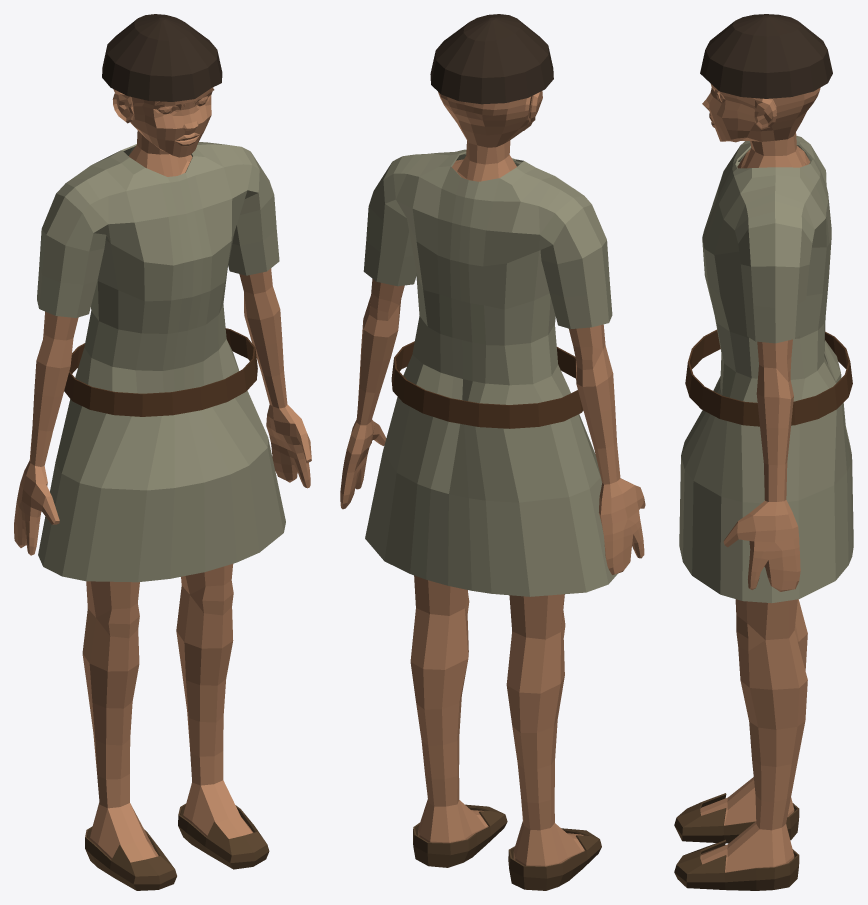
File: worker.glb
3 views of the same model, side by side, from view 1: azimuth 30°, elevation 25°; view 2: azimuth 150°, elevation 25°; view 3: azimuth 270°, elevation 25° (orthographic). The views are drawn at different scales.
Visible parts, largest first — view 1: worker_RomanTunic, worker_CharacterBase, worker_HairCap, worker_LeatherBelt, worker_RomanSandals; view 2: worker_RomanTunic, worker_CharacterBase, worker_HairCap, worker_LeatherBelt, worker_RomanSandals; view 3: worker_RomanTunic, worker_CharacterBase, worker_HairCap, worker_RomanSandals, worker_LeatherBelt.
Boxes of the visible parts, left/top/right/bottom form: worker_RomanTunic: left=37, top=142, right=285, bottom=582; worker_CharacterBase: left=14, top=87, right=311, bottom=862; worker_HairCap: left=102, top=14, right=222, bottom=101; worker_LeatherBelt: left=64, top=328, right=257, bottom=416; worker_RomanSandals: left=85, top=803, right=269, bottom=890; worker_RomanTunic: left=363, top=149, right=617, bottom=596; worker_CharacterBase: left=340, top=91, right=645, bottom=866; worker_HairCap: left=430, top=14, right=553, bottom=104; worker_LeatherBelt: left=391, top=341, right=583, bottom=428; worker_RomanSandals: left=413, top=804, right=601, bottom=890; worker_RomanTunic: left=679, top=135, right=853, bottom=603; worker_CharacterBase: left=700, top=84, right=820, bottom=872; worker_HairCap: left=700, top=14, right=832, bottom=98; worker_RomanSandals: left=674, top=793, right=799, bottom=890; worker_LeatherBelt: left=685, top=329, right=852, bottom=426.
Size of the model in its own units: 0.6533 by 1.84 by 0.3559.
